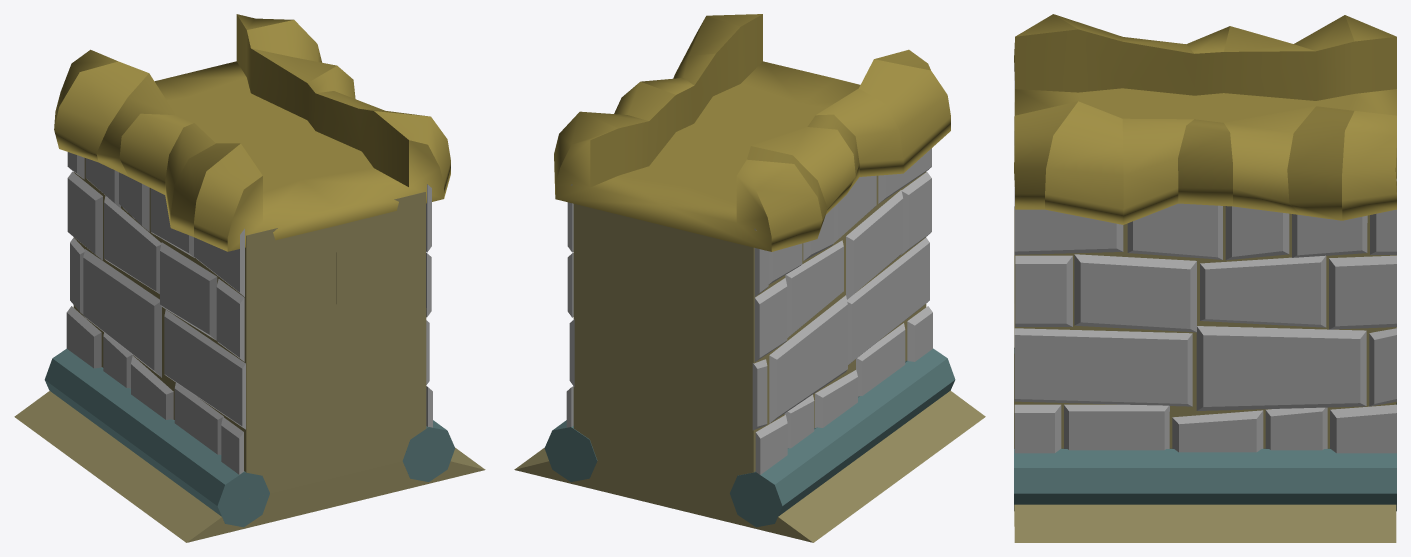
File: Int 7 A.fbx
The picture shows the model from 3 angles, left to right: view 1: azimuth 30°, elevation 25°; view 2: azimuth 150°, elevation 25°; view 3: azimuth 270°, elevation 25°; orthographic projection. The views are drawn at different scales.
Parts seen in each view (by area): view 1: polySurface7; view 2: polySurface7; view 3: polySurface7.
Part boxes in pixels (x1,y1,x2,y2): polySurface7: (14,14,485,542); polySurface7: (514,14,985,542); polySurface7: (1014,14,1396,542).
Size of the model in its own units: 1 by 1.14 by 1.
